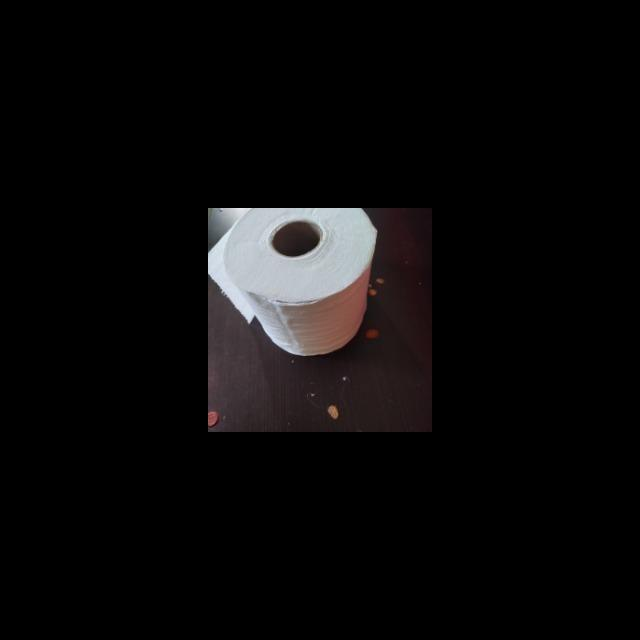paper: (208, 208, 394, 358)
